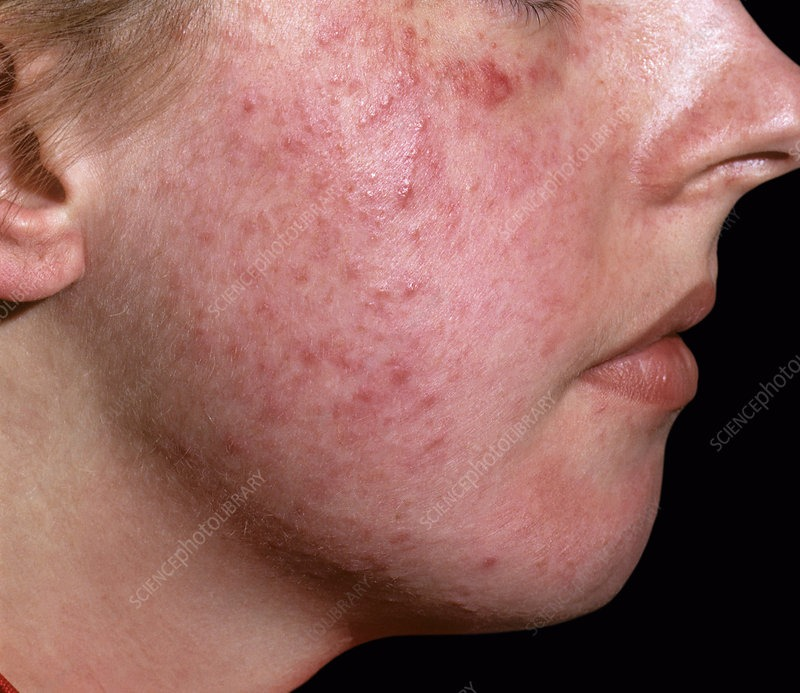Acne: (390, 170, 422, 216), (400, 272, 426, 308)
